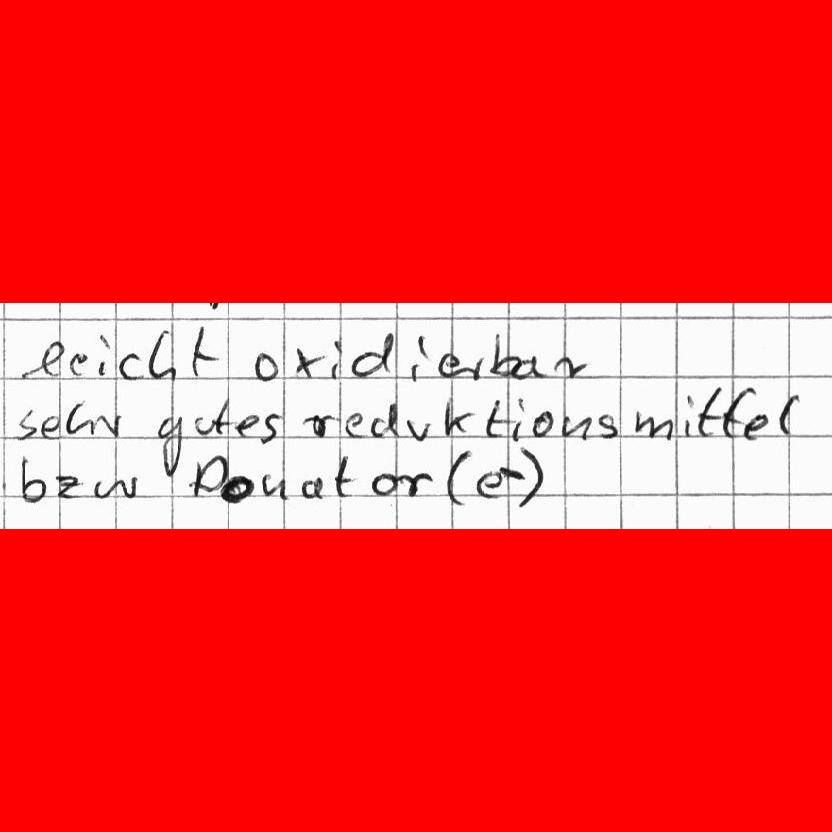Char: (350, 328, 398, 377), (155, 409, 187, 476), (189, 319, 222, 379), (19, 340, 66, 382), (516, 445, 545, 510), (146, 327, 178, 382), (191, 452, 228, 498), (192, 395, 231, 438), (444, 450, 473, 506), (17, 453, 49, 503), (722, 385, 747, 440), (698, 384, 722, 439), (491, 332, 519, 379), (441, 398, 472, 438), (368, 401, 399, 441), (633, 411, 673, 441), (777, 390, 803, 436), (332, 452, 356, 499), (292, 345, 324, 380), (94, 475, 136, 501), (409, 332, 429, 383), (220, 474, 252, 504), (252, 349, 280, 382), (551, 353, 586, 378), (398, 470, 429, 498), (559, 411, 588, 440), (94, 331, 111, 380), (484, 397, 503, 440), (302, 411, 331, 439), (475, 468, 502, 498), (741, 411, 768, 441), (65, 401, 88, 436), (260, 472, 288, 500), (93, 412, 123, 438), (511, 356, 543, 380), (328, 335, 345, 380), (117, 351, 142, 381), (369, 470, 395, 498), (436, 349, 460, 379), (17, 408, 39, 440), (512, 398, 528, 441), (682, 389, 696, 438), (261, 410, 283, 441), (235, 413, 261, 439), (464, 352, 488, 380), (300, 474, 325, 500), (404, 416, 429, 442), (55, 473, 82, 497), (531, 409, 552, 438), (597, 413, 621, 437), (345, 410, 365, 438), (69, 350, 89, 377), (40, 413, 63, 436), (499, 465, 524, 480)
